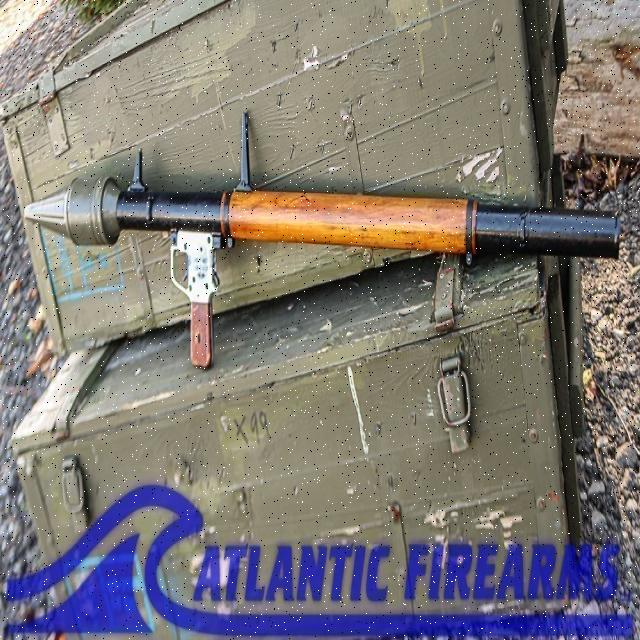bazooka: (9, 111, 630, 315)
